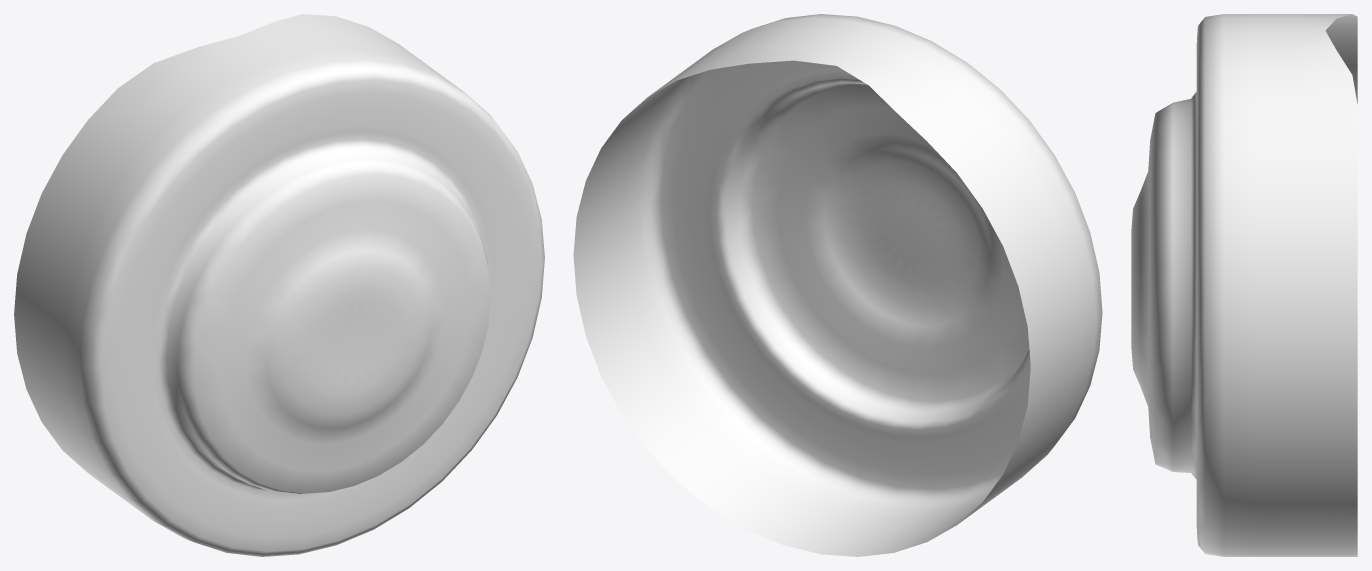
Rendered from centro.obj.
The picture shows the model from 3 angles, left to right: view 1: azimuth 30°, elevation 25°; view 2: azimuth 150°, elevation 25°; view 3: azimuth 270°, elevation 25°; orthographic projection. The views are drawn at different scales.
Parts seen in each view (by area): view 1: Cylinder001; view 2: Cylinder001; view 3: Cylinder001.
Part boxes in pixels (x1,y1,x2,y2): Cylinder001: [14, 14, 544, 556]; Cylinder001: [573, 14, 1102, 556]; Cylinder001: [1131, 14, 1357, 556].
Bounding box in the file's own units: 0.6226 × 0.6205 × 0.2598.
Materials: 1 (1 with a texture image).
